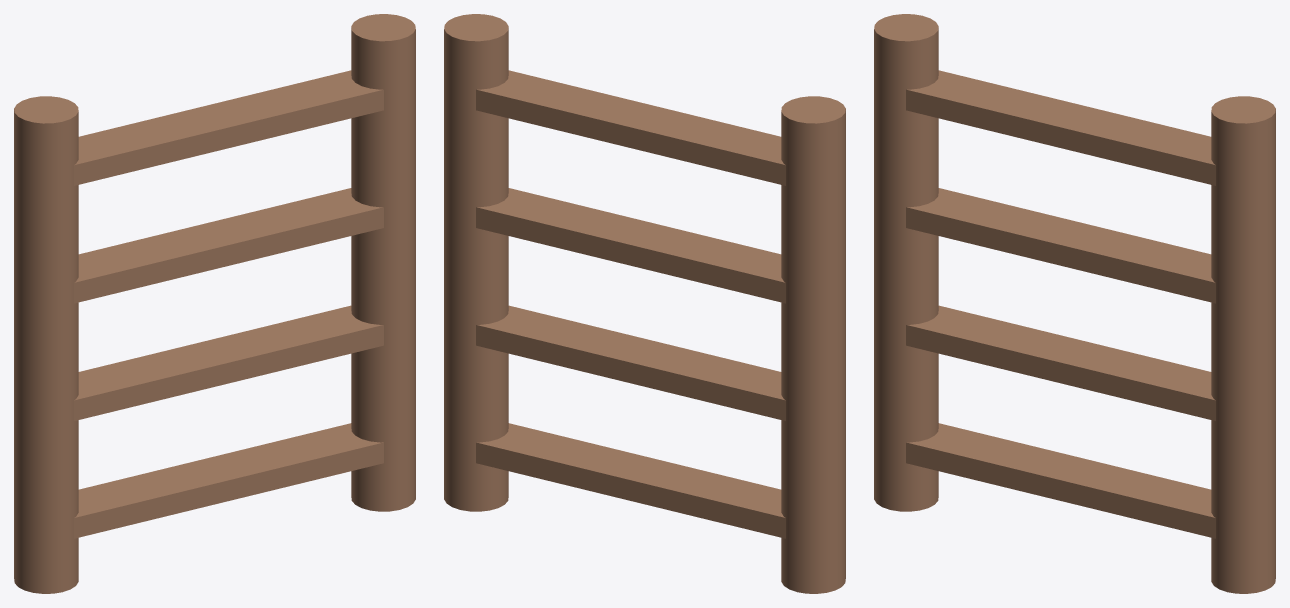
Rendered from Ladder 1.fbx.
The picture shows the model from 3 angles, left to right: view 1: azimuth 30°, elevation 25°; view 2: azimuth 150°, elevation 25°; view 3: azimuth 330°, elevation 25°; orthographic projection.
Parts seen in each view (by area): view 1: Ladder; view 2: Ladder; view 3: Ladder.
Part boxes in pixels (x1,y1,x2,y2): Ladder: [14, 14, 415, 593]; Ladder: [444, 14, 845, 593]; Ladder: [874, 14, 1275, 593].
Size of the model in its own units: 7 by 8 by 1.
